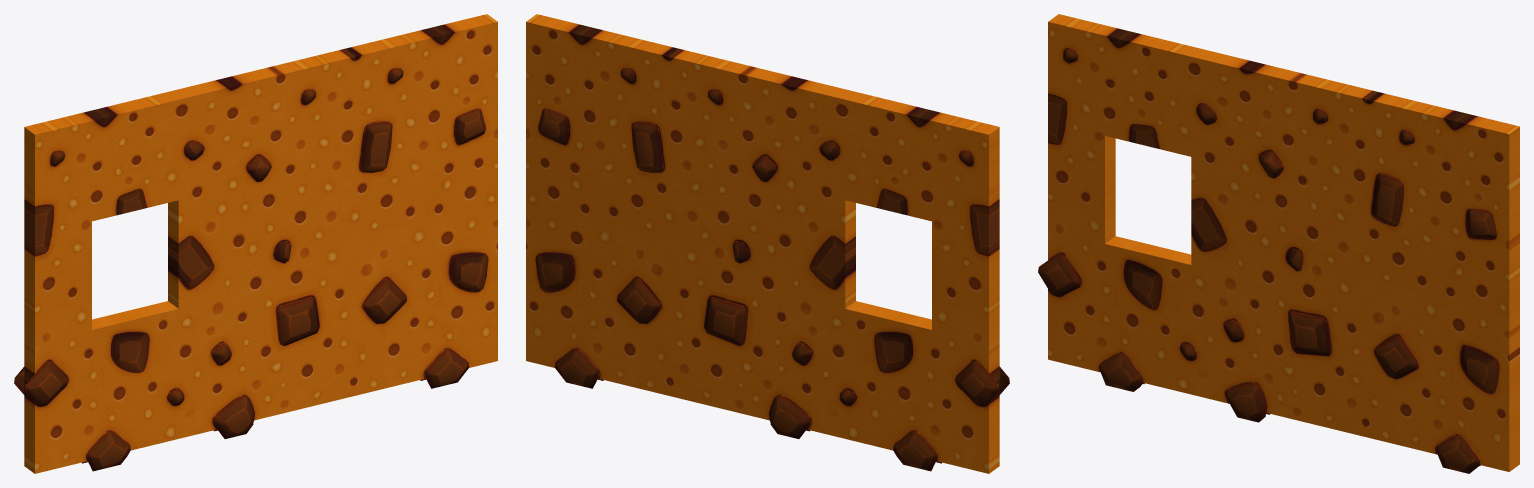
File: parede_biscoito_lateral_janela_pacote.glb
The picture shows the model from 3 angles, left to right: view 1: azimuth 30°, elevation 25°; view 2: azimuth 150°, elevation 25°; view 3: azimuth 330°, elevation 25°; orthographic projection.
Visible parts, largest first — view 1: colisao_malha; view 2: colisao_malha; view 3: colisao_malha.
Boxes of the visible parts, box(x1,y1,x2,y2) form: colisao_malha: box(14, 14, 497, 473); colisao_malha: box(526, 14, 1009, 473); colisao_malha: box(1038, 14, 1519, 473).
Bounding box in the file's own units: 4.6 × 3.26 × 0.2747.
Materials: 1 (1 with a texture image).
